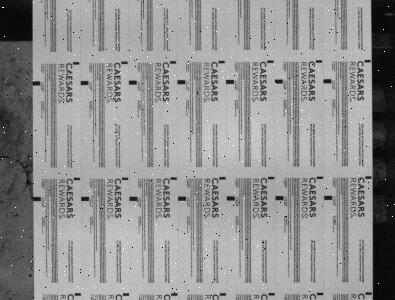qblock: (129, 196, 138, 201), (323, 79, 331, 84), (275, 79, 283, 84), (178, 196, 186, 201), (227, 196, 235, 201), (177, 81, 186, 85), (275, 196, 284, 200), (33, 81, 40, 86), (129, 81, 137, 85), (80, 81, 88, 85), (226, 80, 234, 84), (81, 197, 89, 201), (324, 196, 332, 200), (33, 197, 40, 201)
smallqblock: (268, 176, 275, 180), (364, 59, 371, 63), (268, 292, 275, 296), (219, 60, 225, 64), (73, 62, 80, 65), (267, 60, 274, 63), (316, 176, 323, 179), (219, 177, 226, 180), (74, 293, 81, 296), (171, 293, 178, 296), (220, 293, 227, 296), (317, 292, 324, 295), (121, 61, 128, 64), (170, 61, 176, 64), (74, 177, 80, 180), (122, 177, 128, 180), (171, 177, 177, 180), (366, 176, 372, 179), (123, 293, 129, 296), (366, 292, 372, 295), (316, 60, 322, 63)
